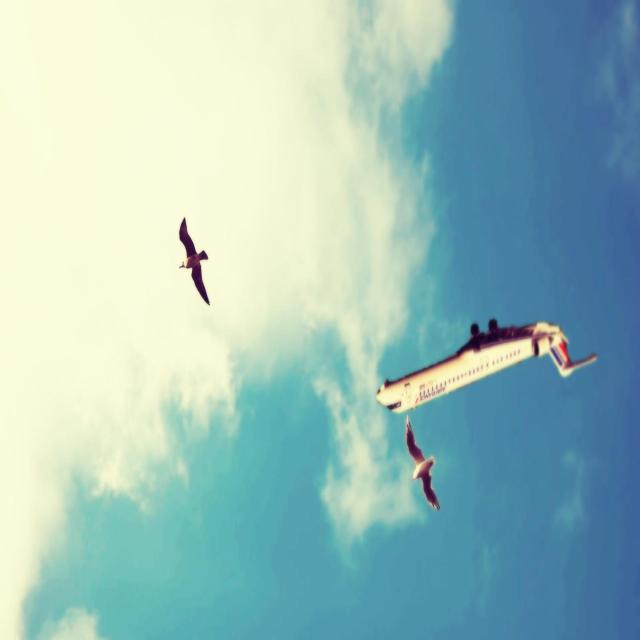airplane: (375, 317, 598, 415)
